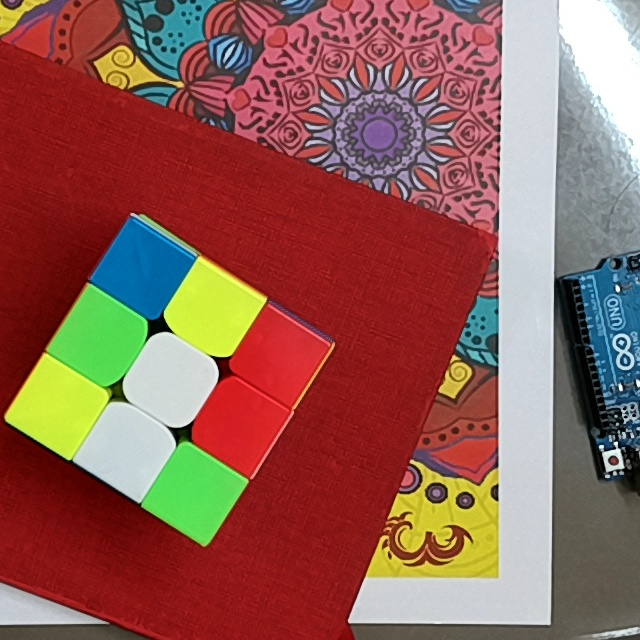tile: (75, 313, 128, 367), (100, 418, 154, 471), (168, 467, 221, 520), (114, 245, 170, 295), (212, 400, 264, 453), (142, 355, 195, 407), (253, 332, 304, 383), (183, 285, 236, 334), (32, 381, 82, 432)
